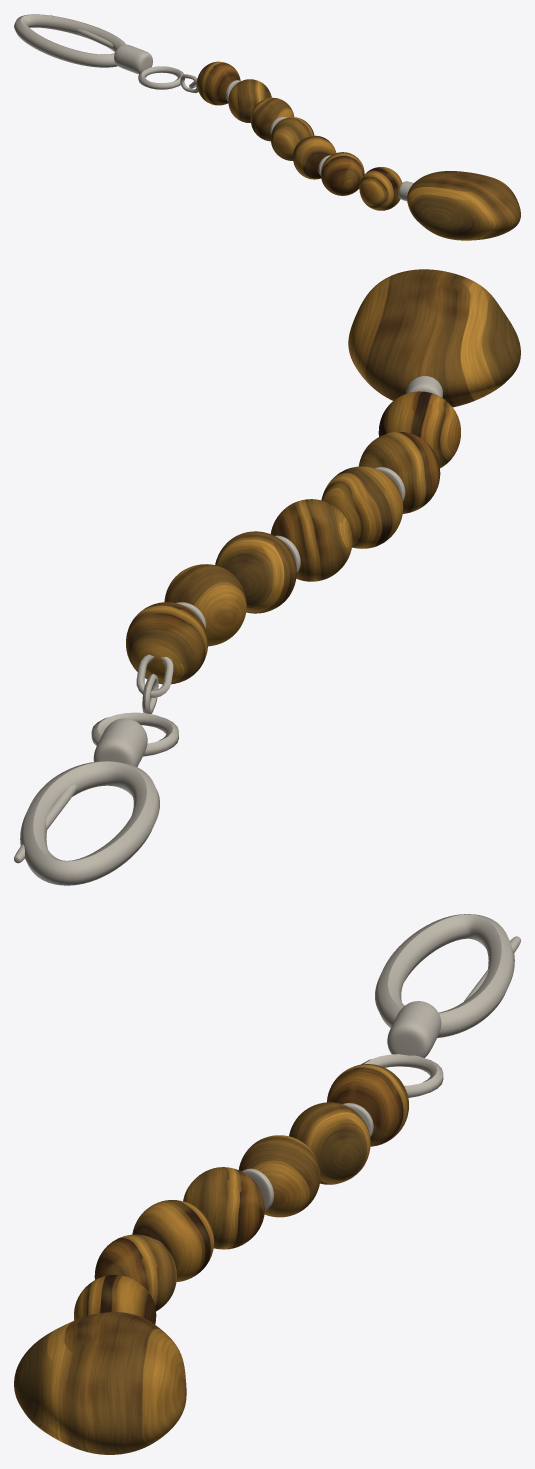
The model's file is standard.glb.
3 renders of one model, top to bottom at view 1: azimuth 30°, elevation 25°; view 2: azimuth 150°, elevation 25°; view 3: azimuth 330°, elevation 25°, orthographic. The views are drawn at different scales.
Parts seen in each view (by area): view 1: bead_pebble_1, hak.002, bead_round_2.001, bead_round_0.002, bead_round_0, bead_round_1.001, bead_round_1, bead_round_0.001, bead_round_2, bead_peg_0.004, kolko.028; view 2: bead_pebble_1, hak.002, bead_round_0, bead_round_0.001, bead_round_1.001, bead_round_2, bead_round_1, bead_round_2.001, bead_round_0.002, bead_peg_0.004, kolko.028, ogniwo.001; view 3: bead_pebble_1, hak.002, bead_round_0.001, bead_round_1, bead_round_2, bead_round_1.001, bead_round_0, bead_round_2.001, bead_round_0.002, bead_peg_0.004, kolko.028.
Part boxes in pixels (x1,y1,x2,y2): bead_pebble_1: [407, 171, 520, 240]; hak.002: [14, 14, 125, 67]; bead_round_2.001: [321, 152, 364, 195]; bead_round_0.002: [359, 167, 402, 210]; bead_round_0: [197, 61, 240, 105]; bead_round_1.001: [293, 135, 336, 179]; bead_round_1: [228, 79, 271, 122]; bead_round_0.001: [271, 117, 314, 160]; bead_round_2: [250, 97, 294, 141]; bead_peg_0.004: [114, 44, 152, 74]; kolko.028: [138, 66, 184, 89]; bead_pebble_1: [348, 269, 520, 407]; hak.002: [20, 761, 159, 885]; bead_round_0: [126, 602, 208, 684]; bead_round_0.001: [270, 499, 352, 581]; bead_round_1.001: [321, 466, 403, 548]; bead_round_2: [215, 531, 296, 613]; bead_round_1: [164, 564, 246, 646]; bead_round_2.001: [358, 431, 440, 513]; bead_round_0.002: [378, 391, 460, 468]; bead_peg_0.004: [93, 718, 147, 766]; kolko.028: [91, 712, 178, 756]; ogniwo.001: [136, 654, 173, 697]; bead_pebble_1: [14, 1312, 186, 1454]; hak.002: [375, 914, 514, 1037]; bead_round_0.001: [183, 1167, 264, 1249]; bead_round_1: [289, 1102, 370, 1184]; bead_round_2: [238, 1135, 320, 1217]; bead_round_1.001: [132, 1200, 214, 1281]; bead_round_0: [327, 1064, 408, 1146]; bead_round_2.001: [94, 1234, 176, 1311]; bead_round_0.002: [74, 1274, 156, 1324]; bead_peg_0.004: [387, 1001, 441, 1057]; kolko.028: [361, 1054, 443, 1097].
Bounding box in the file's own units: 3.42 × 0.9879 × 11.51.
Materials: 4 (3 with a texture image).
